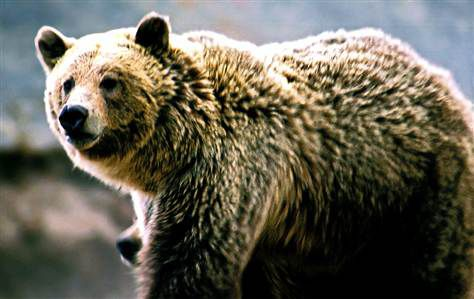bear: (31, 8, 174, 151)
